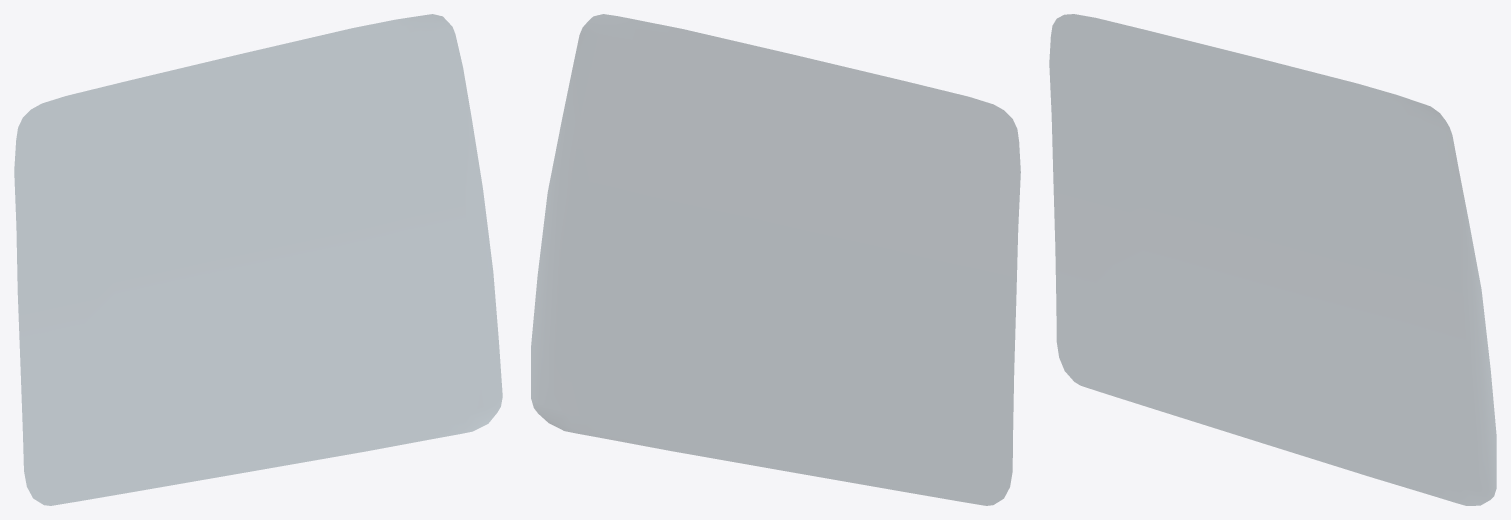
3 renders of one model, left to right at view 1: azimuth 30°, elevation 25°; view 2: azimuth 150°, elevation 25°; view 3: azimuth 330°, elevation 25°, orthographic. The views are drawn at different scales.
Parts seen in each view (by area): view 1: SM_ActrosFiretruck_Door_FR_Glass_Int2; view 2: SM_ActrosFiretruck_Door_FR_Glass_Int2; view 3: SM_ActrosFiretruck_Door_FR_Glass_Int2.
Boxes of the visible parts, bbox=[...] form: SM_ActrosFiretruck_Door_FR_Glass_Int2: bbox=[14, 14, 502, 505]; SM_ActrosFiretruck_Door_FR_Glass_Int2: bbox=[531, 14, 1020, 505]; SM_ActrosFiretruck_Door_FR_Glass_Int2: bbox=[1049, 14, 1496, 505].
Size of the model in its own units: 0.964 by 0.8173 by 0.0124.
